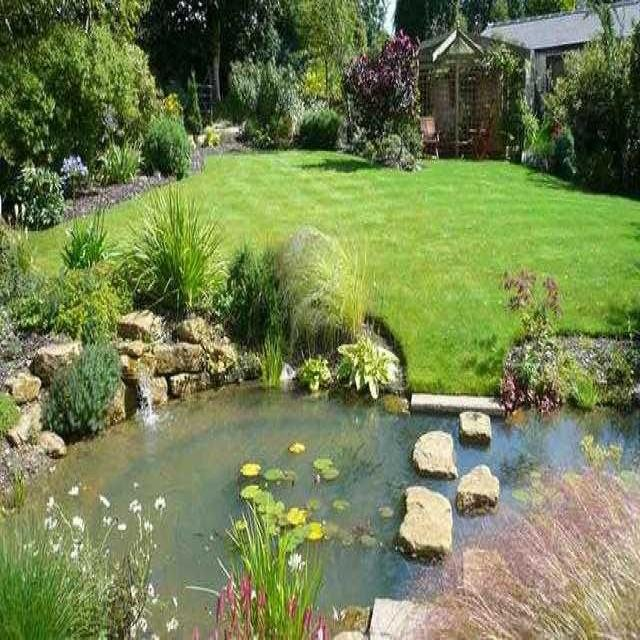Ponds: (1, 309, 640, 640)
